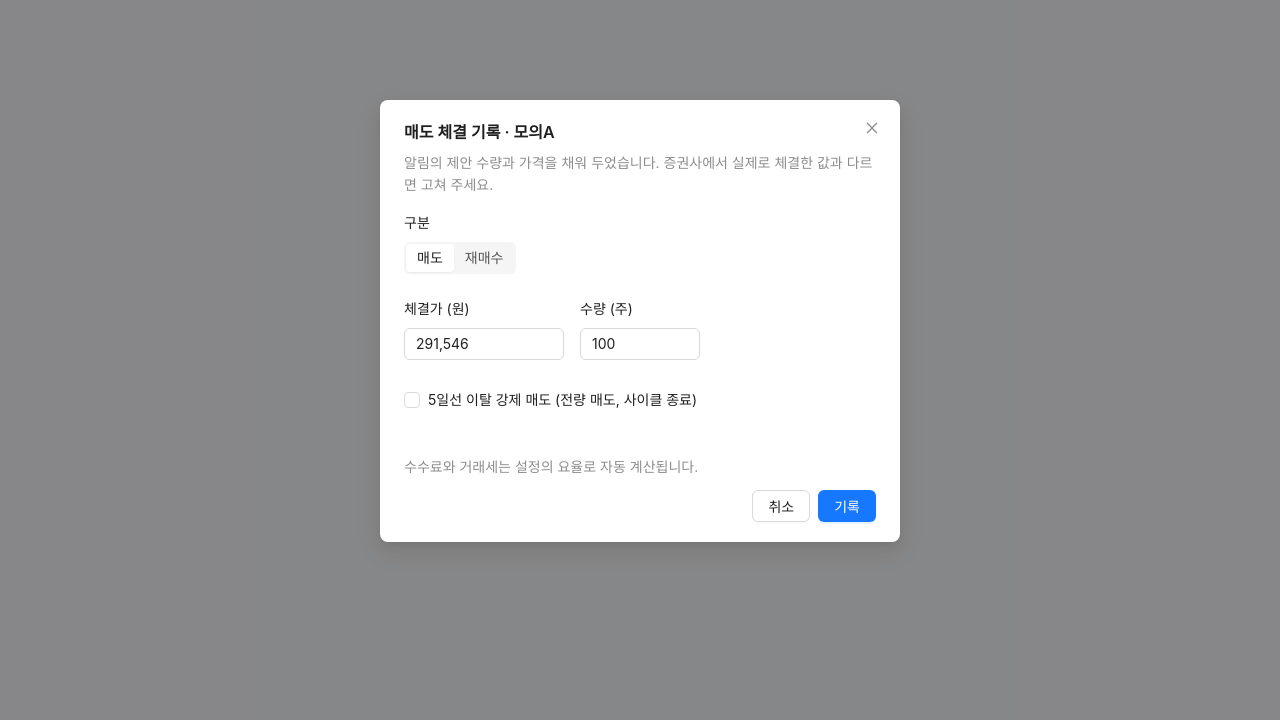
Test: FillModal › keeps the form open and shows the reason when the server refuses
The width and height of the screenshot is (1280, 720).
Click the button "기록" at (847, 506), box [818,490,876,522]
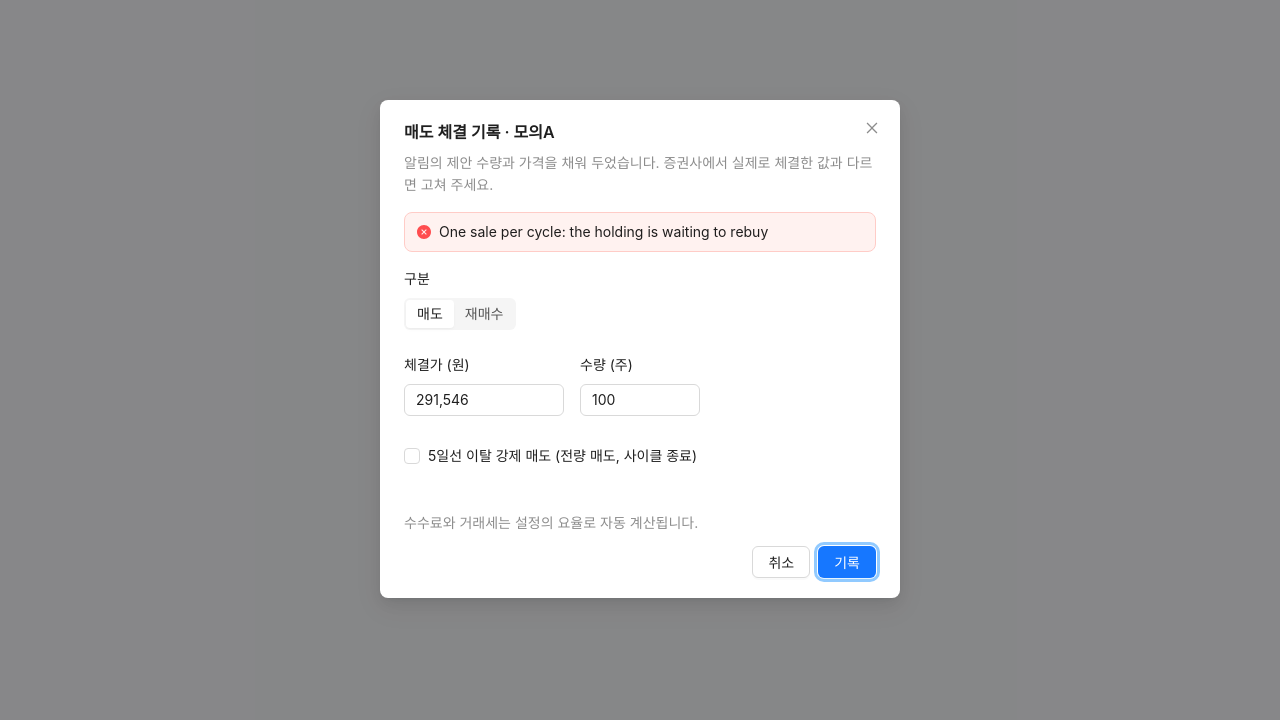
Result: the text "One sale per cycle: the holding is waiting to rebuy" is shown at [439,223,768,240]
